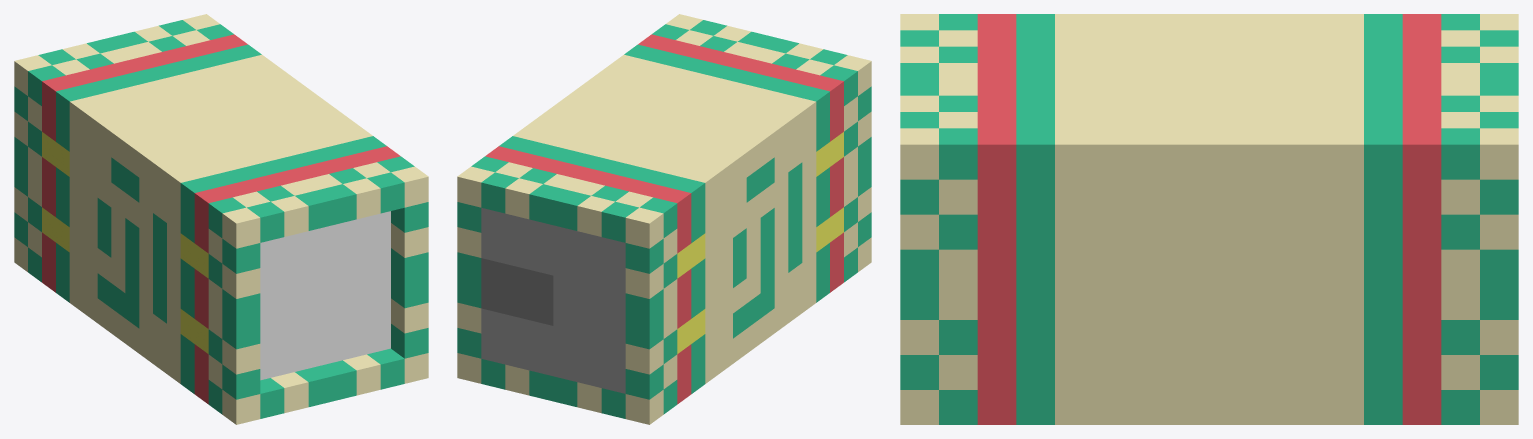
File: Drink_Tea.obj
The picture shows the model from 3 angles, left to right: view 1: azimuth 30°, elevation 25°; view 2: azimuth 150°, elevation 25°; view 3: azimuth 270°, elevation 25°; orthographic projection. The views are drawn at different scales.
Visible parts, largest first — view 1: Drink_Tea; view 2: Drink_Tea; view 3: Drink_Tea.
Boxes of the visible parts, <box> form: Drink_Tea: <box>14,14,428,424</box>; Drink_Tea: <box>457,14,871,424</box>; Drink_Tea: <box>900,14,1518,424</box>.
Size of the model in its own units: 0.8 by 0.8 by 1.6.
